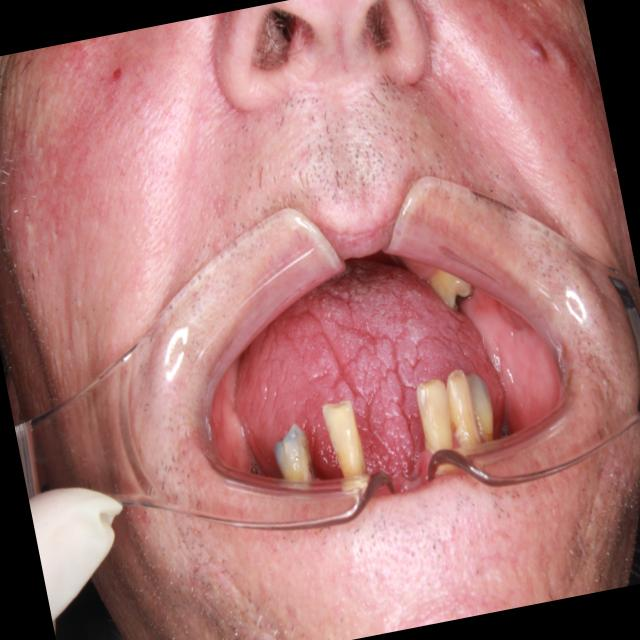tooth: (312, 392, 376, 481), (404, 374, 466, 455), (261, 418, 327, 494), (415, 245, 480, 319), (438, 360, 486, 451), (459, 361, 506, 450)
